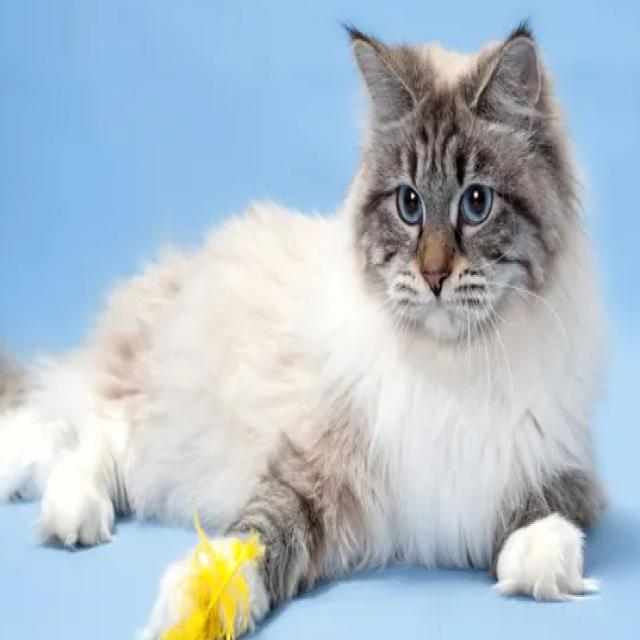Neva Masquerade: (0, 17, 613, 640)
